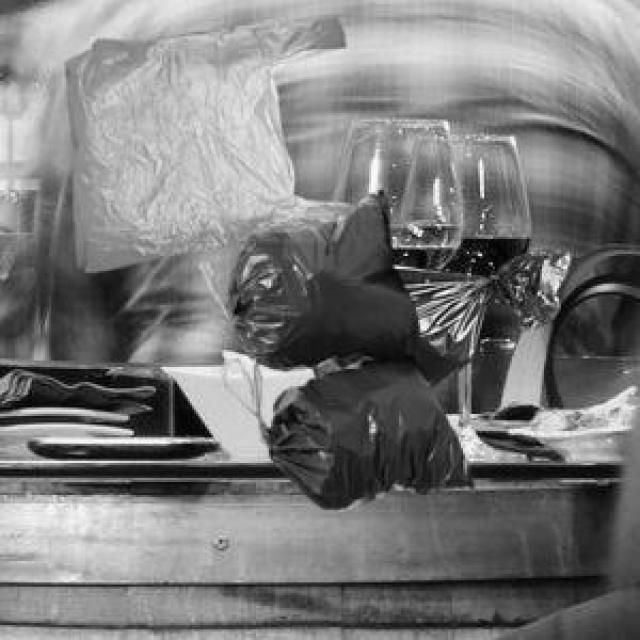miscellaneous trash: (196, 186, 469, 508), (309, 248, 565, 384)
